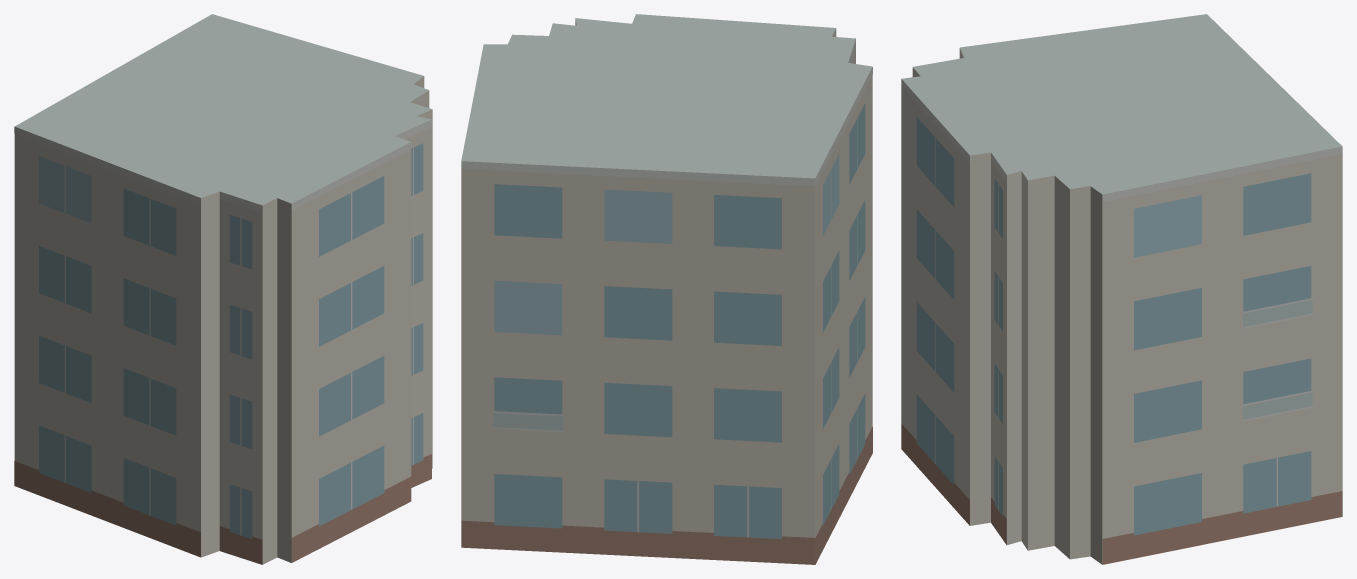
Rendered from survey-upis-32852249.glb.
3 views of the same model, side by side, from view 1: azimuth 30°, elevation 25°; view 2: azimuth 150°, elevation 25°; view 3: azimuth 270°, elevation 25° (orthographic). The views are drawn at different scales.
Visible parts, largest first — view 1: survey-upis-32852249.tmp; view 2: survey-upis-32852249.tmp; view 3: survey-upis-32852249.tmp.
Part boxes in pixels (x1,y1,x2,y2): survey-upis-32852249.tmp: (14, 14, 432, 564); survey-upis-32852249.tmp: (461, 14, 872, 564); survey-upis-32852249.tmp: (901, 14, 1342, 564).
Bounding box in the file's own units: 12.66 × 12.1 × 13.08.
